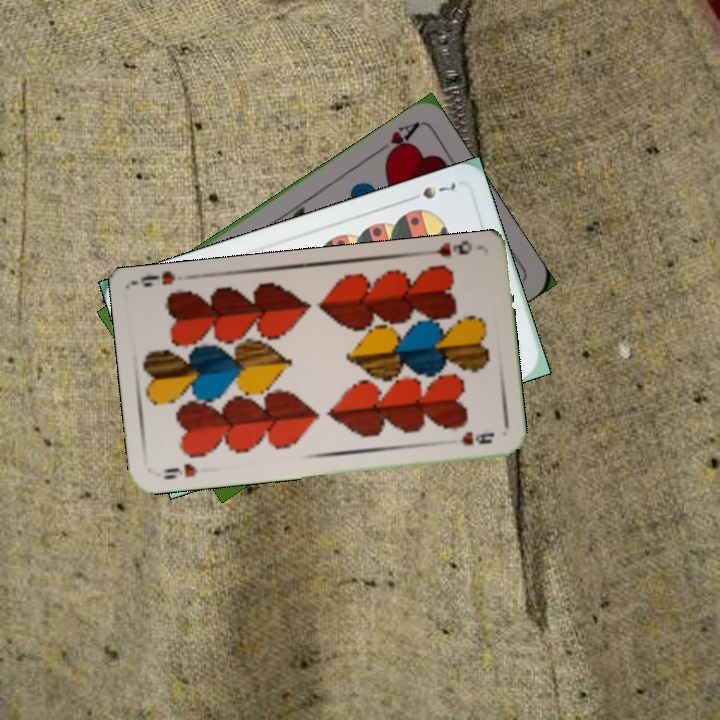H9: (422, 239, 475, 260), (158, 459, 201, 482)
HA: (369, 118, 422, 164)
S7: (403, 179, 459, 205)
